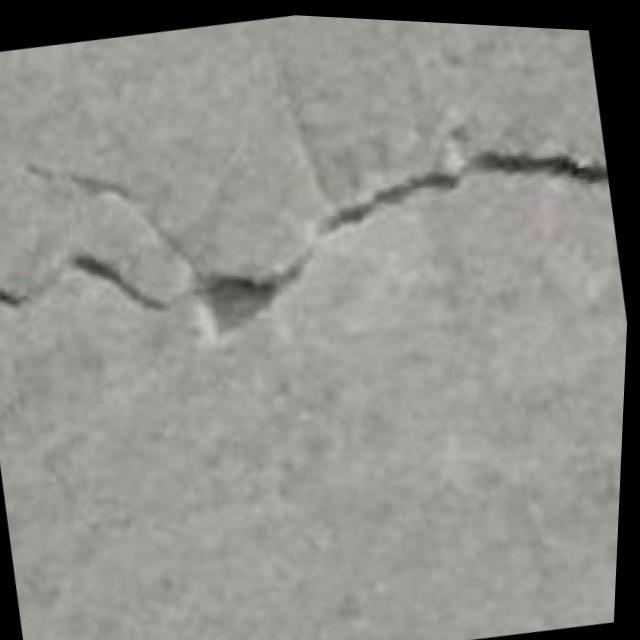Crack: (0, 50, 635, 401)
